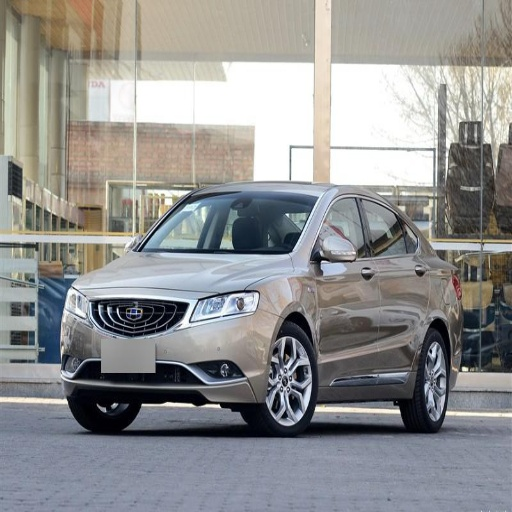back_left_door: (361, 196, 430, 386)
front_bumper: (60, 288, 280, 401)
front_glass: (130, 192, 317, 253)
front_left_door: (309, 194, 378, 386)
